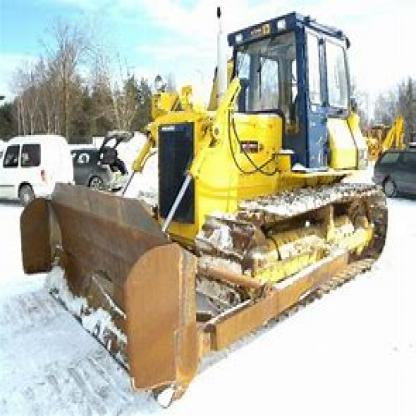bull_dozer/loader/grader: (13, 2, 414, 394)
